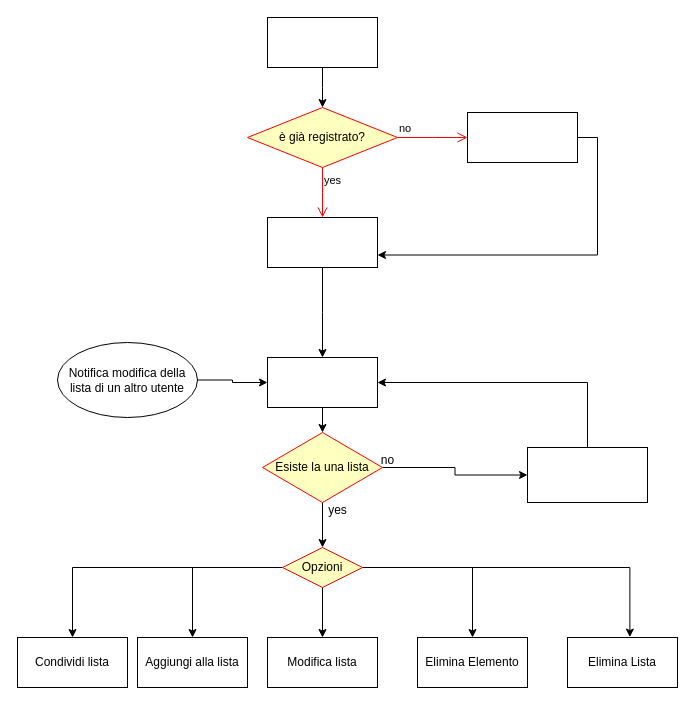
Image size: 695x705. Some labels were removed from this diagram. The box of each missing label's shape, as (x1, y1, x2, y2) in pixels:
Crea Lista della Spesa: (526, 446, 648, 502)
Login: (266, 216, 378, 268)
Menu: (266, 356, 378, 408)
registrazione: (466, 112, 578, 162)
Utente: (266, 16, 378, 68)
